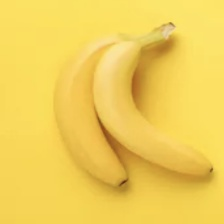banana: (11, 28, 189, 187)
